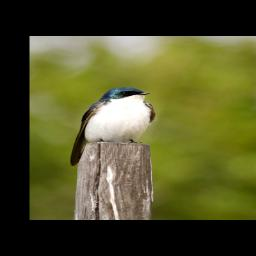Swallow: (69, 83, 159, 167)
